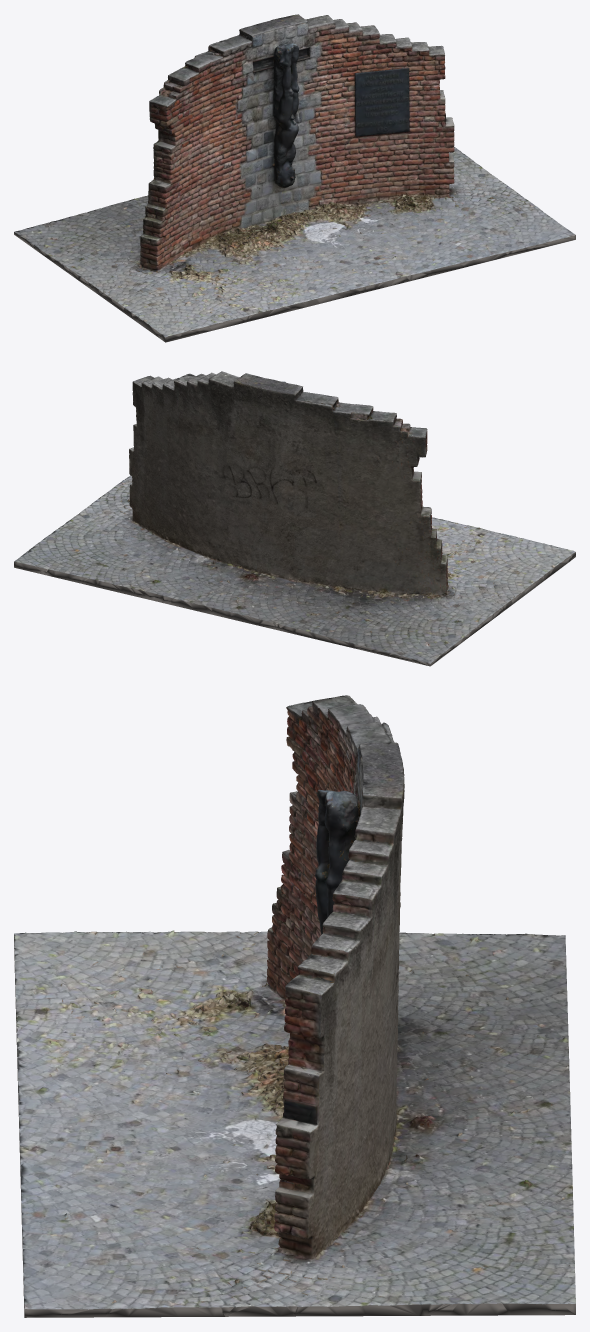
Rendered from preview.glb.
3 views of the same model, one above another, from view 1: azimuth 30°, elevation 25°; view 2: azimuth 150°, elevation 25°; view 3: azimuth 270°, elevation 25° (orthographic). The views are drawn at different scales.
Visible parts, largest first — view 1: Object_2; view 2: Object_2; view 3: Object_2.
Part boxes in pixels (bbox=[...]): Object_2: bbox=[14, 14, 575, 342]; Object_2: bbox=[14, 371, 575, 666]; Object_2: bbox=[14, 695, 575, 1317].
Size of the model in its own units: 5.67 by 2.54 by 3.57.
1 material, 1 textured.
